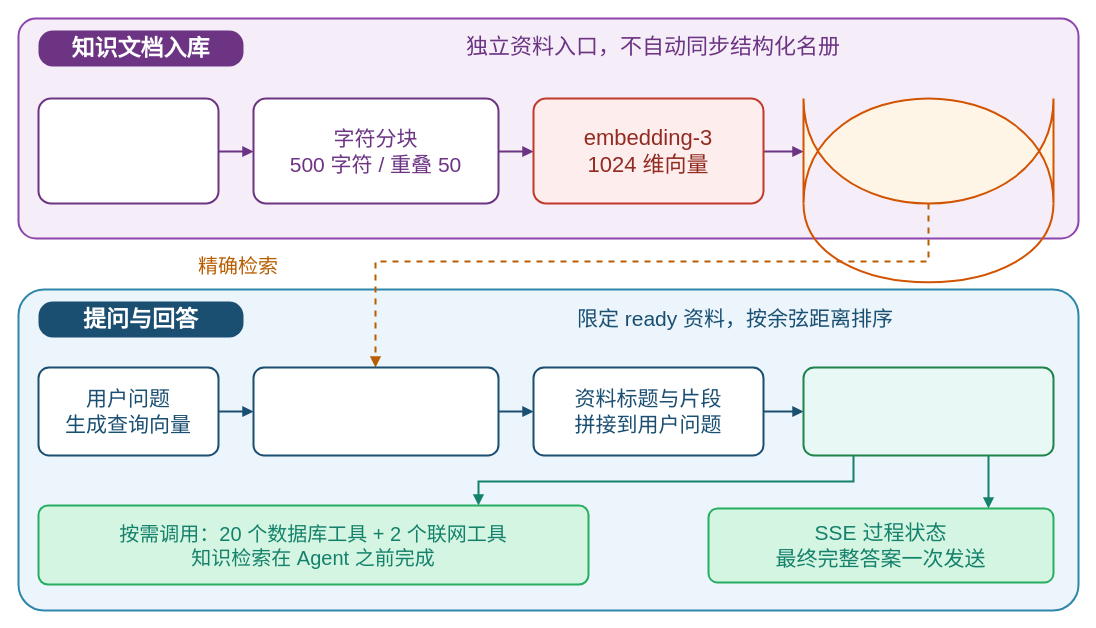
Image size: 1096x628. Some labels were removed from this diagram. Each missing label, with the centre of its shape:
Agent / 请求日期与年份约束 纠正后重新查询 / 完整答案: pixel 928 411
knowledge_chunks 文本块与向量: pixel 928 150
文档解析 提取文本: pixel 128 150
检索前 3 个文本块 聊天 top_k = 3: pixel 375 411
